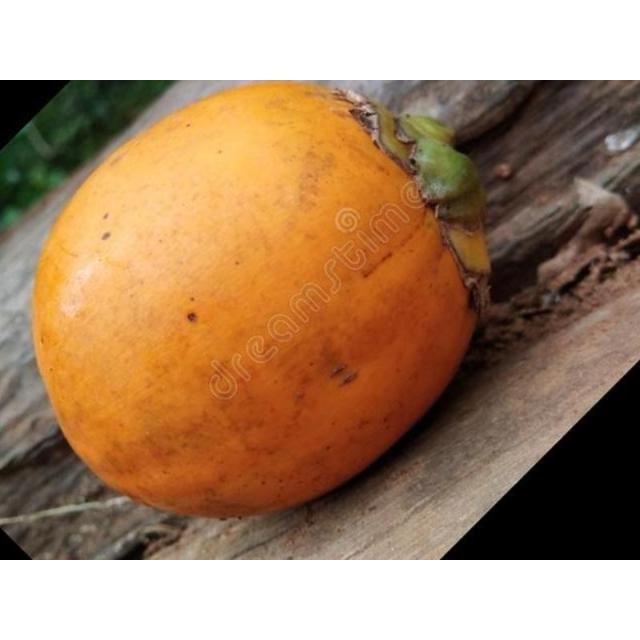good: (26, 83, 490, 522)
